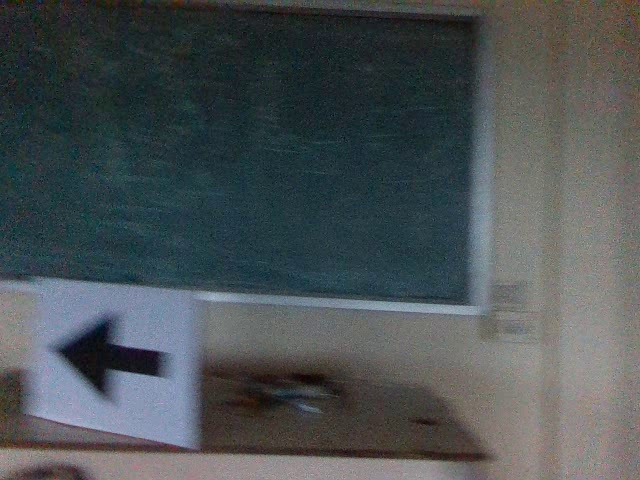Left: (42, 303, 173, 405)
